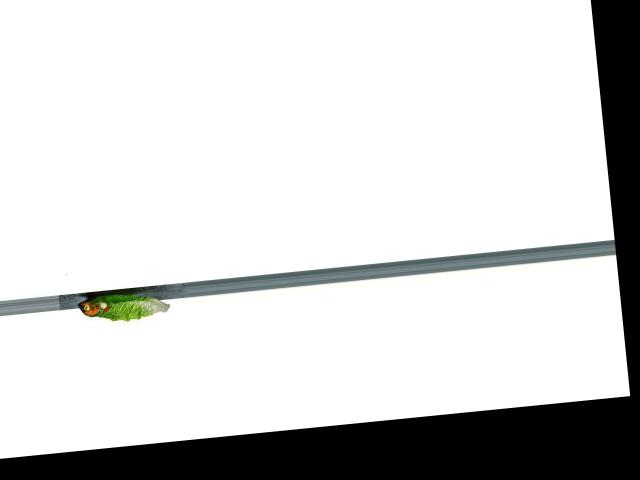lettuce: (73, 284, 172, 329)
